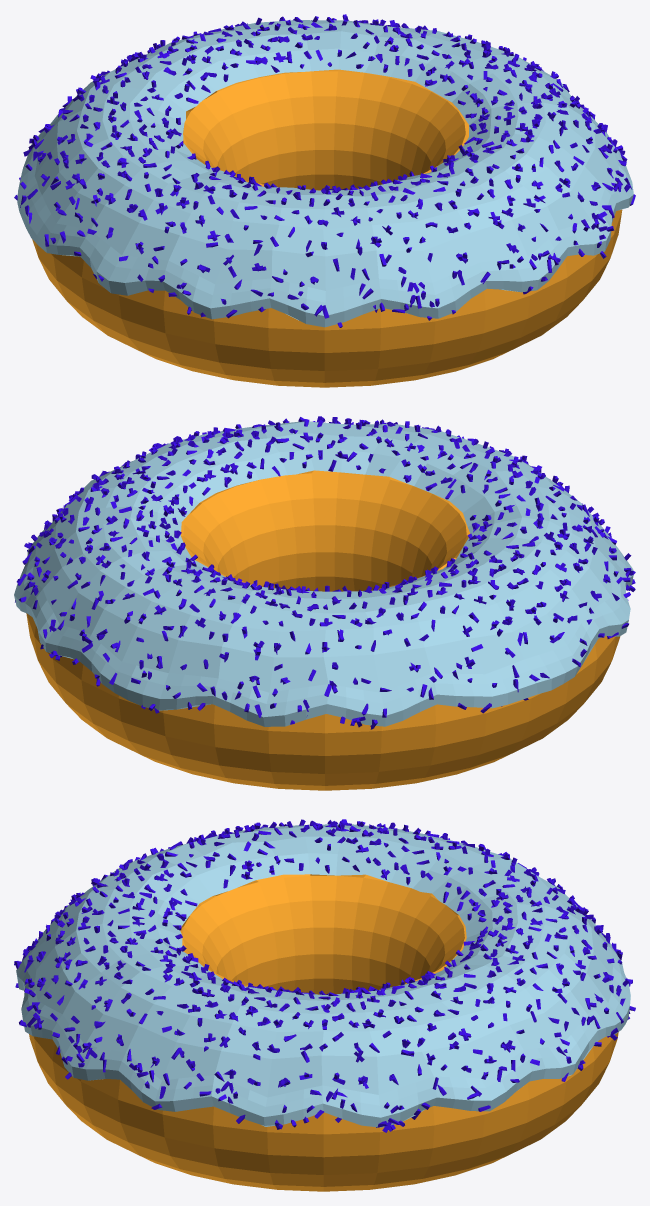
The model's file is donut.glb.
3 renders of one model, top to bottom at view 1: azimuth 30°, elevation 25°; view 2: azimuth 150°, elevation 25°; view 3: azimuth 270°, elevation 25°, orthographic.
Visible parts, largest first — view 1: donut.001; view 2: donut.001; view 3: donut.001.
Boxes of the visible parts, x1,y1,x2,y2 form: donut.001: (14, 14, 635, 387); donut.001: (14, 416, 635, 790); donut.001: (14, 819, 635, 1191).
Size of the model in its own units: 0.991 by 0.3311 by 0.9999.
